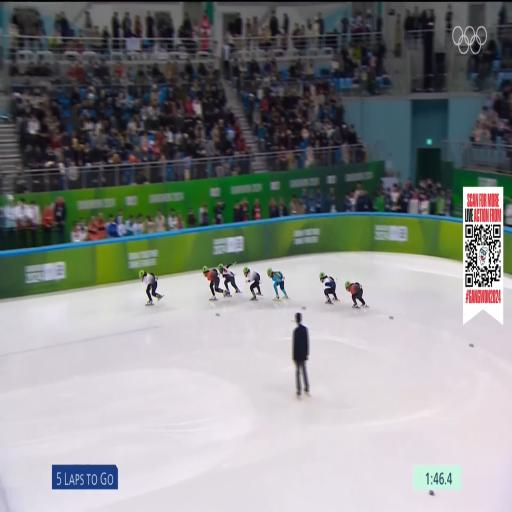Skater: (139, 270, 163, 305), (218, 262, 241, 296), (203, 266, 223, 300), (267, 268, 288, 300), (243, 267, 262, 300), (345, 282, 367, 308), (320, 273, 338, 303)
